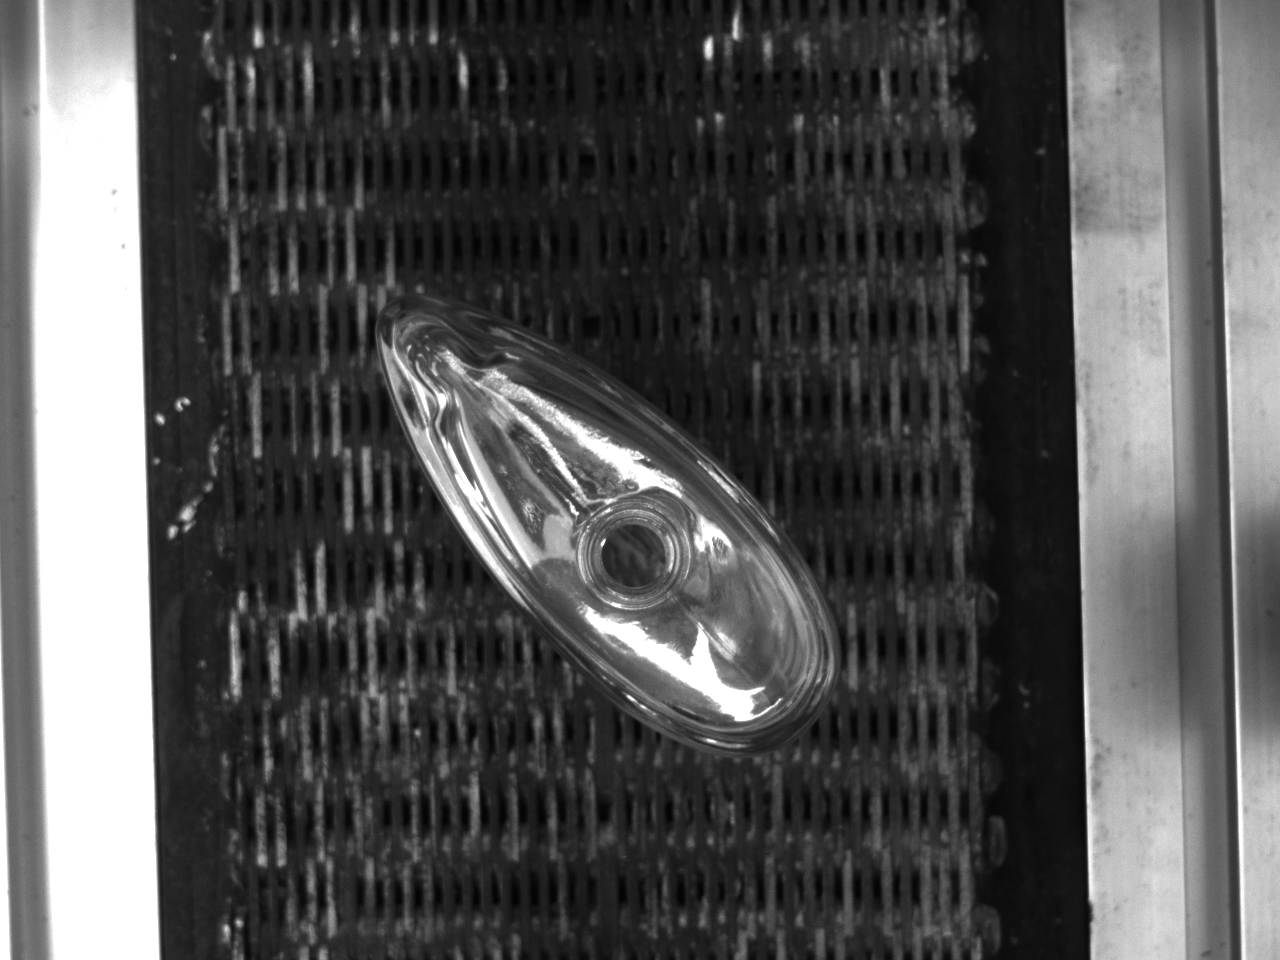bottleneck: (578, 500, 692, 608)
